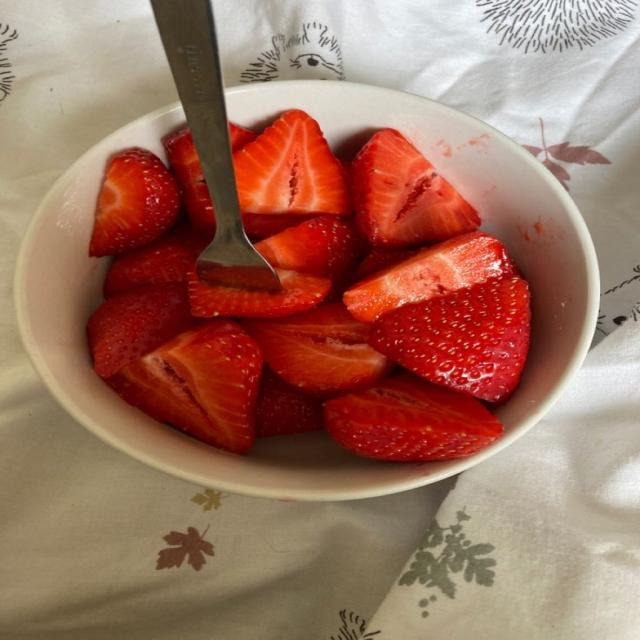strawberry sliced: (107, 320, 262, 454), (369, 276, 530, 402), (325, 373, 503, 461), (343, 232, 515, 323), (351, 129, 479, 246), (244, 303, 391, 396), (234, 110, 351, 215), (87, 283, 194, 377), (89, 148, 179, 257), (104, 225, 207, 297), (188, 269, 332, 317), (256, 216, 361, 278), (163, 126, 215, 239), (256, 366, 323, 436), (243, 213, 315, 242), (355, 248, 417, 281)
